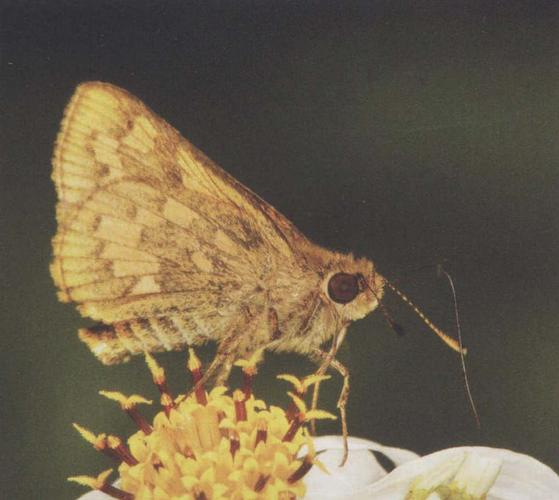Hesperiidae: (47, 79, 465, 425)
